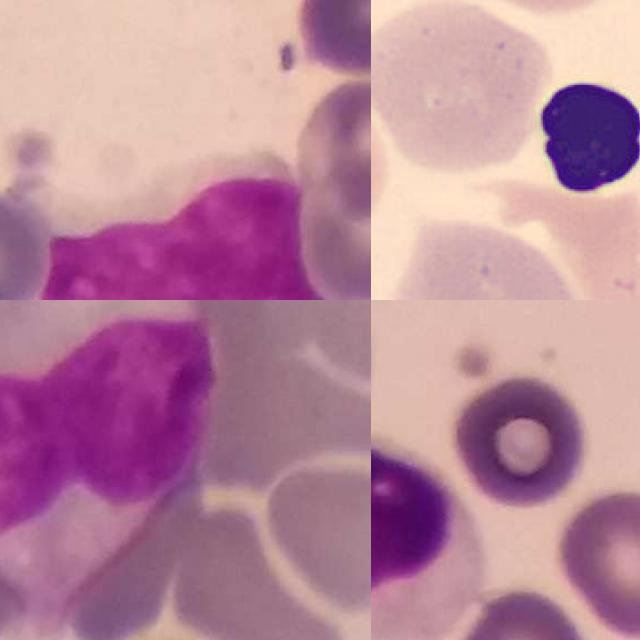Lymphocyte: (371, 435, 488, 640)
Monocyte: (0, 300, 218, 625), (35, 152, 350, 300)
RBC: (371, 0, 551, 175), (390, 214, 591, 300)
